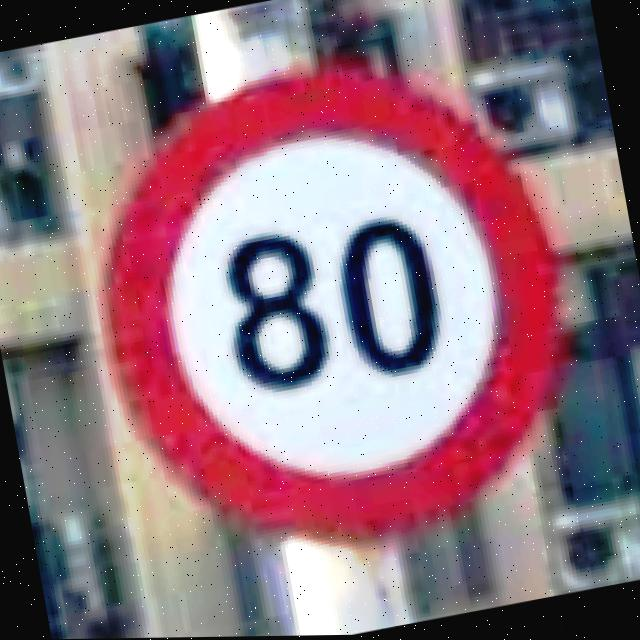max80: (59, 23, 604, 587)
